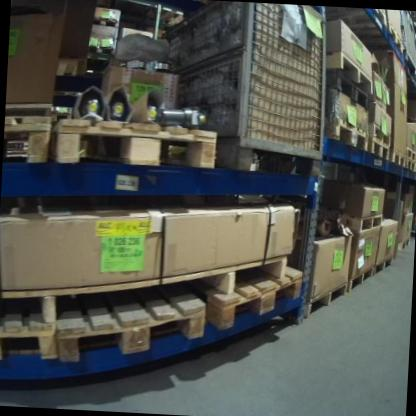pallet: (57, 268, 206, 373), (50, 112, 217, 171), (204, 257, 303, 337), (0, 307, 59, 374), (2, 112, 50, 165), (323, 50, 375, 96), (324, 73, 371, 111), (305, 280, 348, 319), (323, 117, 370, 151), (347, 263, 375, 293), (350, 211, 384, 234), (366, 121, 393, 147), (366, 136, 390, 161), (386, 22, 404, 53), (374, 255, 393, 275), (389, 148, 406, 167), (93, 18, 119, 29), (396, 237, 409, 251), (405, 146, 416, 161), (405, 157, 415, 172), (414, 163, 416, 173), (414, 156, 416, 165)
stillage: (156, 0, 329, 176), (391, 9, 416, 71), (411, 23, 416, 89)
